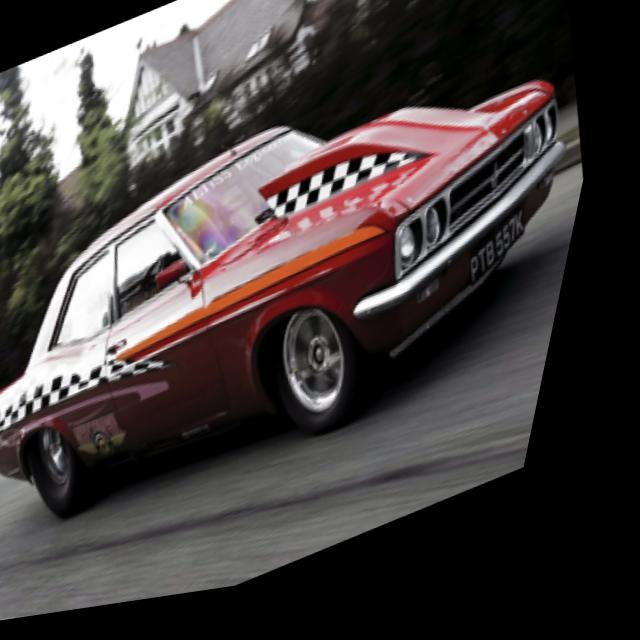license_plate: (470, 218, 556, 304)
